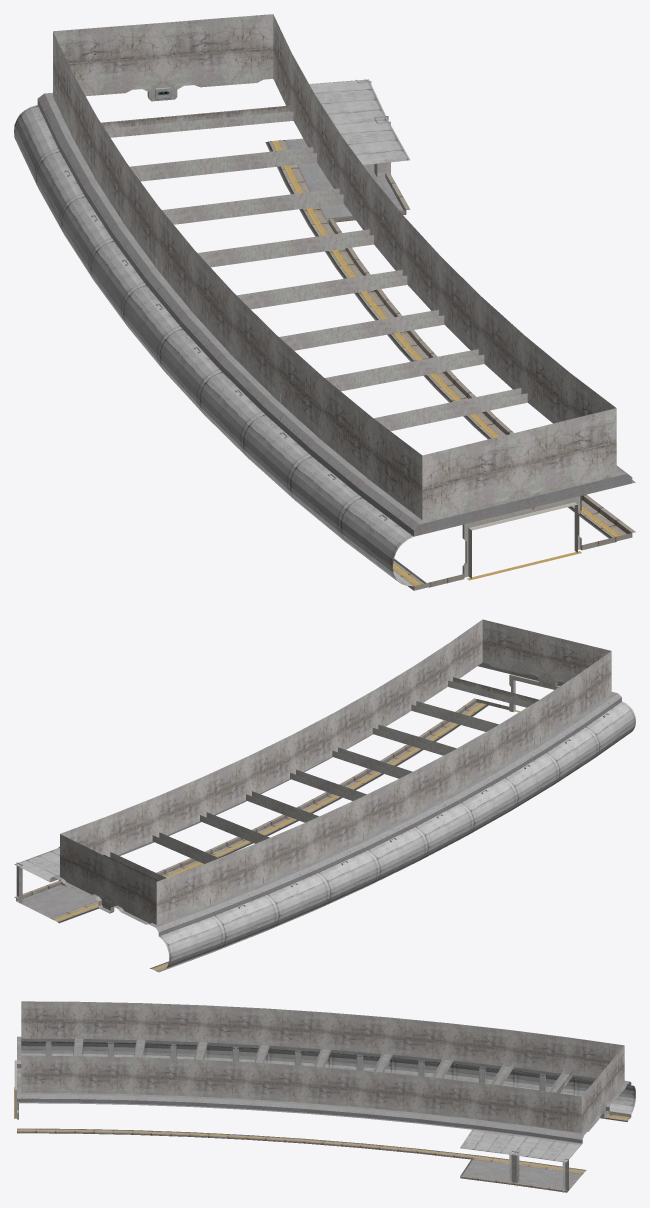
File: menunew3_concrete.fbx
3 renders of one model, top to bottom at view 1: azimuth 30°, elevation 25°; view 2: azimuth 150°, elevation 25°; view 3: azimuth 270°, elevation 25°, orthographic. The views are drawn at different scales.
Visible parts, largest first — view 1: menuNew3_concrete_tunnel_atlas_LOD1; view 2: menuNew3_concrete_tunnel_atlas_LOD1; view 3: menuNew3_concrete_tunnel_atlas_LOD1.
Boxes of the visible parts, x1=… form: menuNew3_concrete_tunnel_atlas_LOD1: x1=14, y1=14, x2=635, y2=590; menuNew3_concrete_tunnel_atlas_LOD1: x1=14, y1=619, x2=635, y2=972; menuNew3_concrete_tunnel_atlas_LOD1: x1=14, y1=1001, x2=635, y2=1192.
Size of the model in its own units: 41.64 by 85.99 by 11.38.
